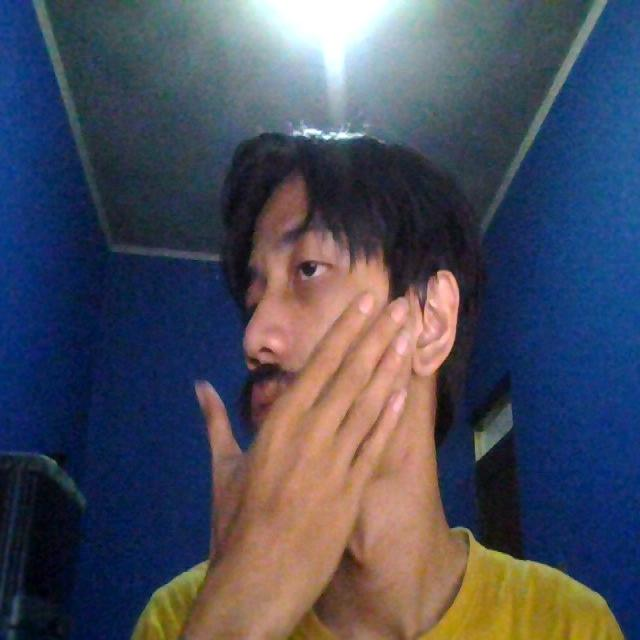Melihat kekanan: (174, 172, 540, 538)
movement: (166, 283, 415, 625)
